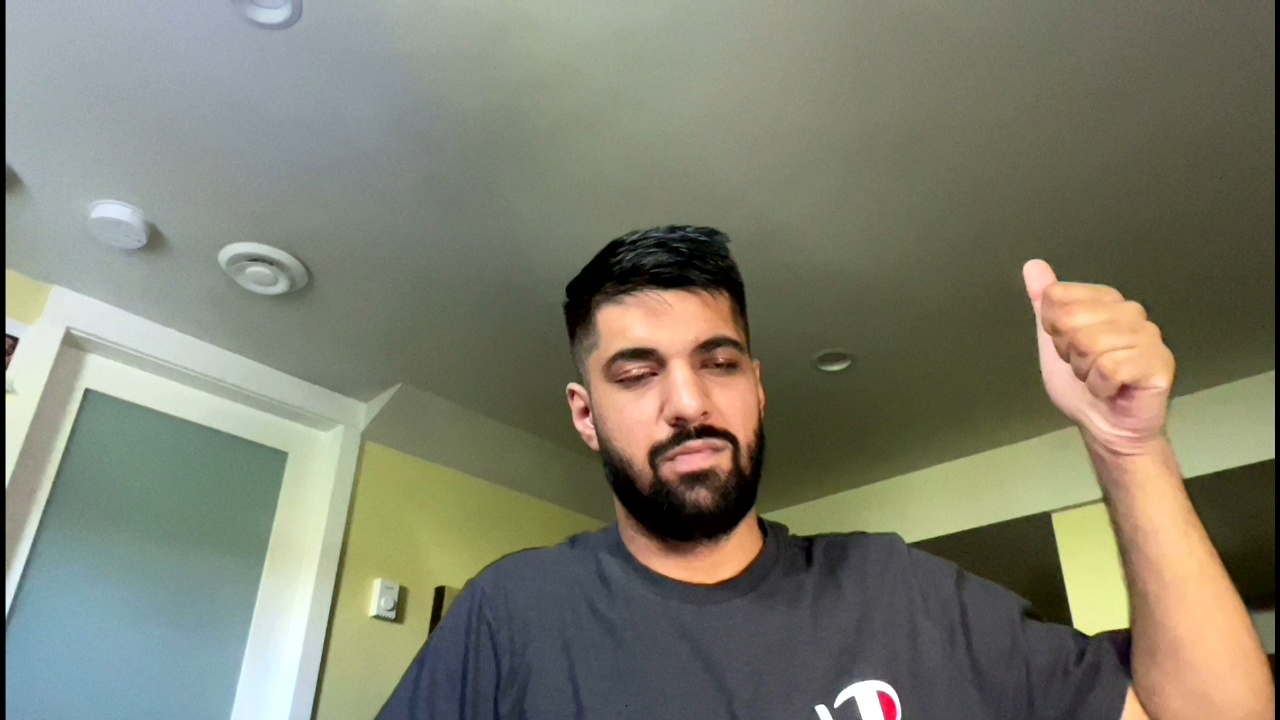Yes: (1003, 253, 1190, 439)
